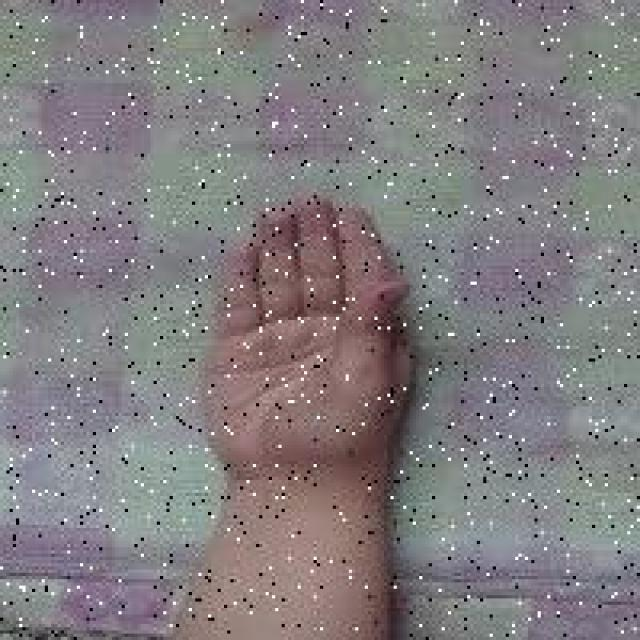B: (192, 189, 426, 493)
